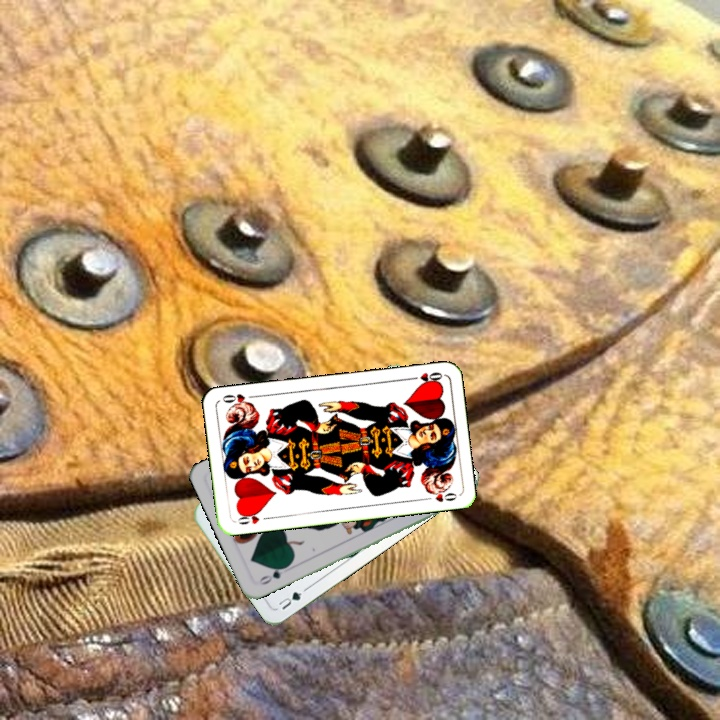GO: (254, 561, 291, 588)
GU: (274, 587, 305, 612)
HO: (234, 507, 272, 527), (405, 368, 445, 387)
